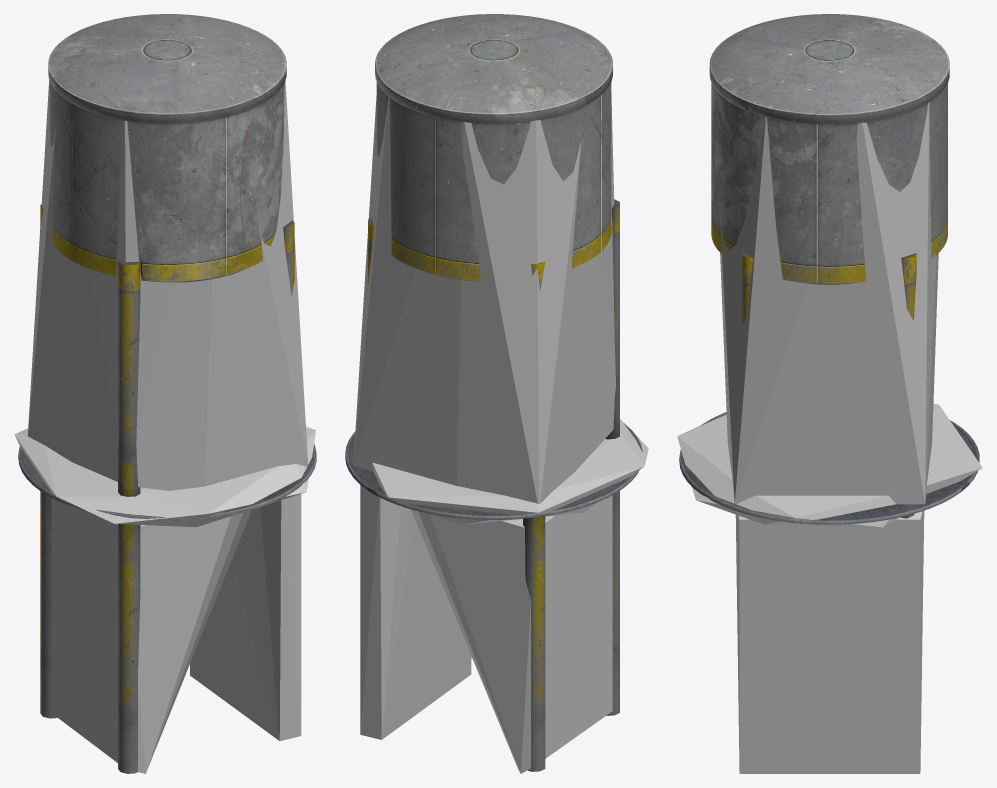
The model's file is SM_tank_vertical.fbx.
The picture shows the model from 3 angles, left to right: view 1: azimuth 30°, elevation 25°; view 2: azimuth 150°, elevation 25°; view 3: azimuth 270°, elevation 25°; orthographic projection.
Parts seen in each view (by area): view 1: SM_tank_vertical_ConvexHulls, SM_tank_vertical; view 2: SM_tank_vertical_ConvexHulls, SM_tank_vertical; view 3: SM_tank_vertical_ConvexHulls, SM_tank_vertical.
Part boxes in pixels (box(x1,y1,x2,y2)): SM_tank_vertical_ConvexHulls: box(14, 80, 316, 773); SM_tank_vertical: box(18, 14, 316, 773); SM_tank_vertical_ConvexHulls: box(353, 93, 648, 773); SM_tank_vertical: box(345, 14, 642, 771); SM_tank_vertical_ConvexHulls: box(677, 102, 982, 773); SM_tank_vertical: box(679, 14, 979, 524).
Size of the model in its own units: 534 by 534 by 1312.
2 materials, 1 textured.
